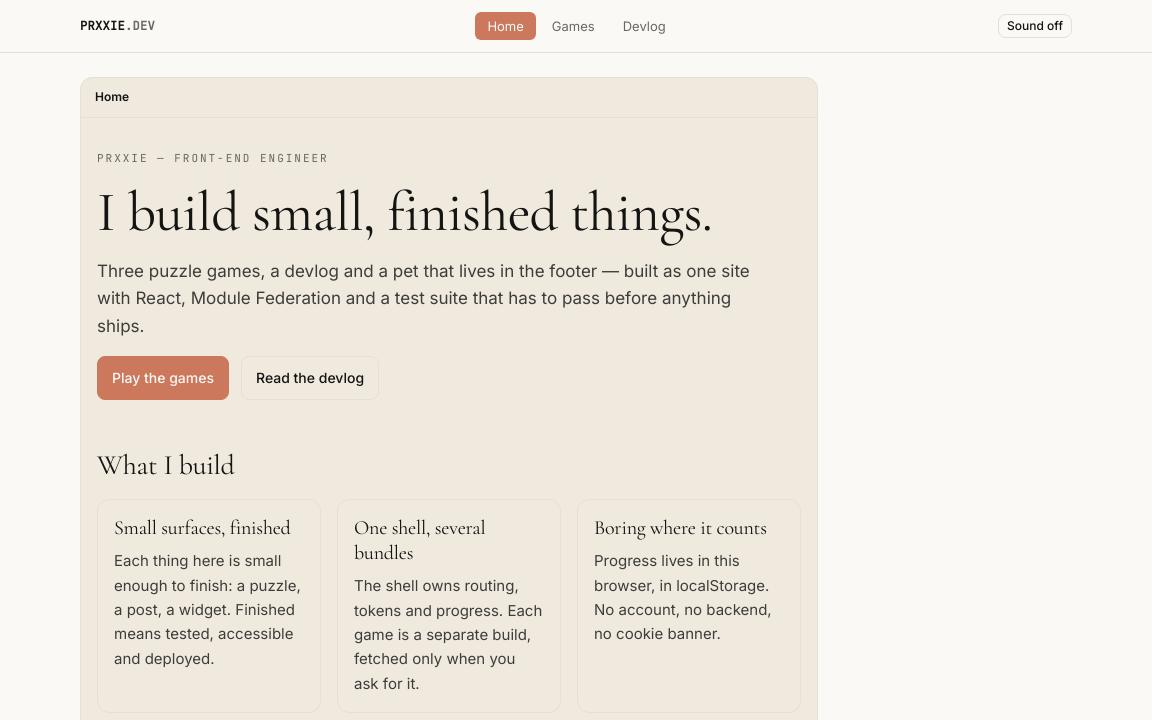
Test: Shell Host App › renames the page region as the route changes
Click the link "Games".
click(573, 26)  # box [552,18,595,34]
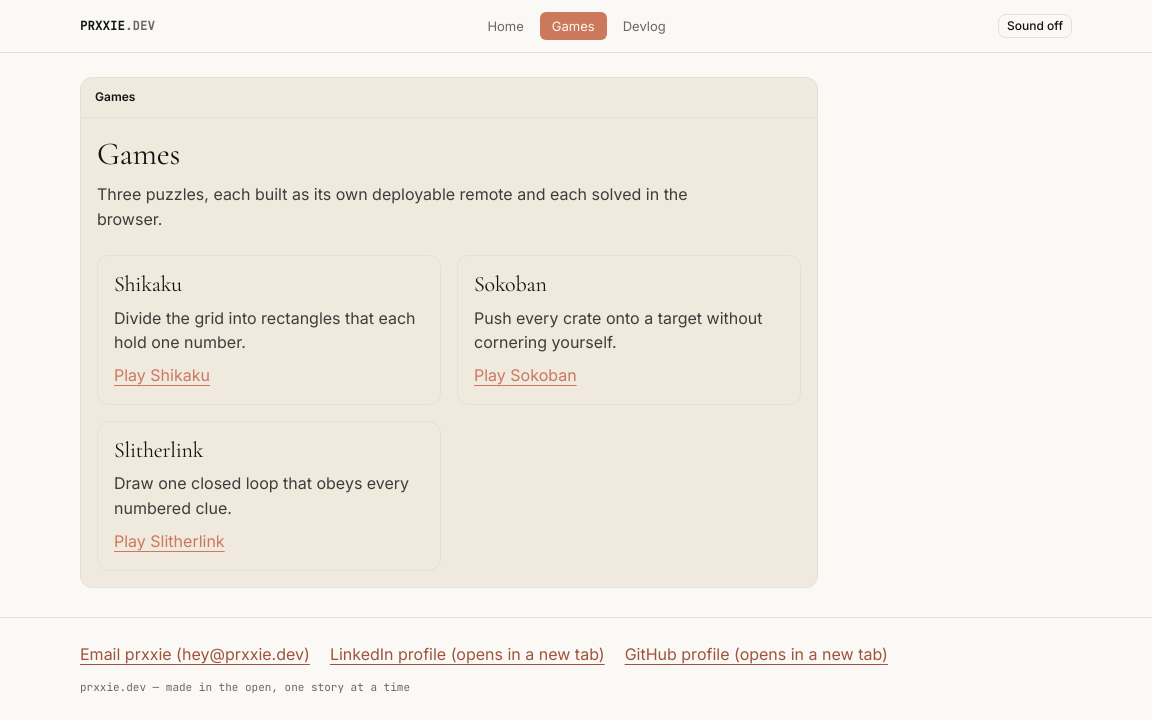
Result: the text with id "region-title" reads "Games" at [95,89,135,104]
